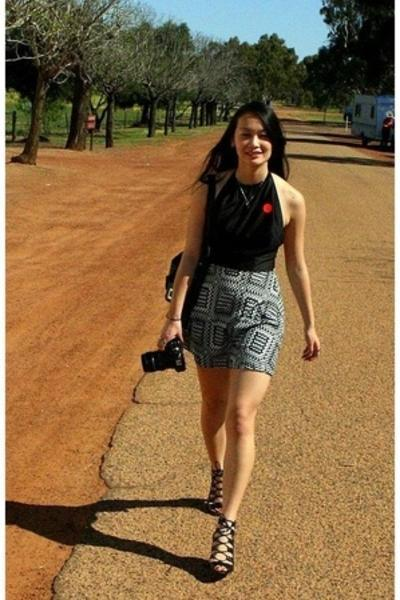shirt: (200, 171, 295, 283)
shoe: (202, 480, 235, 577)
skirt: (180, 252, 283, 377)
